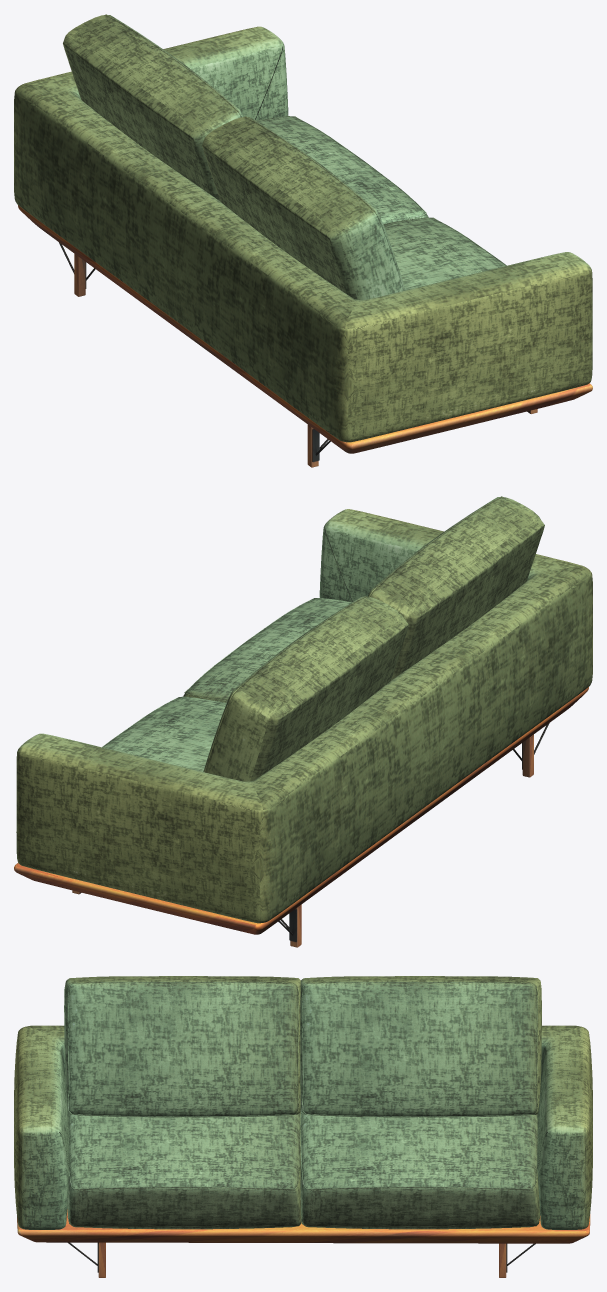
File: sofa.obj
3 renders of one model, top to bottom at view 1: azimuth 30°, elevation 25°; view 2: azimuth 150°, elevation 25°; view 3: azimuth 270°, elevation 25°, orthographic. The views are drawn at different scales.
Visible parts, largest first — view 1: Sofa_1 Armrest, Seats1 Sofa_1, Sofa_1 Wood_Metal_Legs; view 2: Sofa_1 Armrest, Seats1 Sofa_1, Sofa_1 Wood_Metal_Legs; view 3: Seats1 Sofa_1, Sofa_1 Armrest, Sofa_1 Wood_Metal_Legs.
Part boxes in pixels (left/top/right/bottom): Sofa_1 Armrest: left=14, top=26, right=592, bottom=442; Seats1 Sofa_1: left=63, top=14, right=506, bottom=300; Sofa_1 Wood_Metal_Legs: left=18, top=205, right=592, bottom=467; Sofa_1 Armrest: left=16, top=509, right=592, bottom=923; Seats1 Sofa_1: left=102, top=496, right=544, bottom=781; Sofa_1 Wood_Metal_Legs: left=14, top=687, right=588, bottom=947; Seats1 Sofa_1: left=64, top=976, right=541, bottom=1229; Sofa_1 Armrest: left=14, top=1025, right=592, bottom=1229; Sofa_1 Wood_Metal_Legs: left=17, top=1209, right=590, bottom=1277.
Size of the model in its own units: 104 by 98.97 by 233.
Materials: 3 (3 with a texture image).
